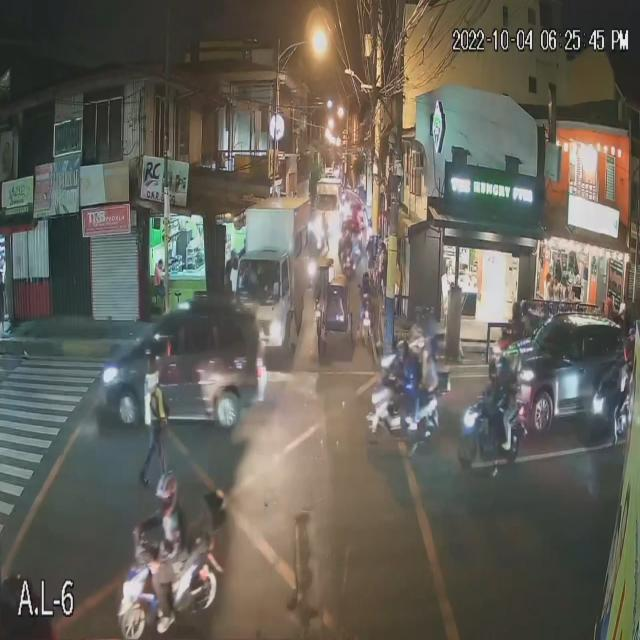Full-Faced: (154, 466, 179, 515), (393, 335, 408, 366), (486, 356, 500, 385), (359, 270, 371, 285)
